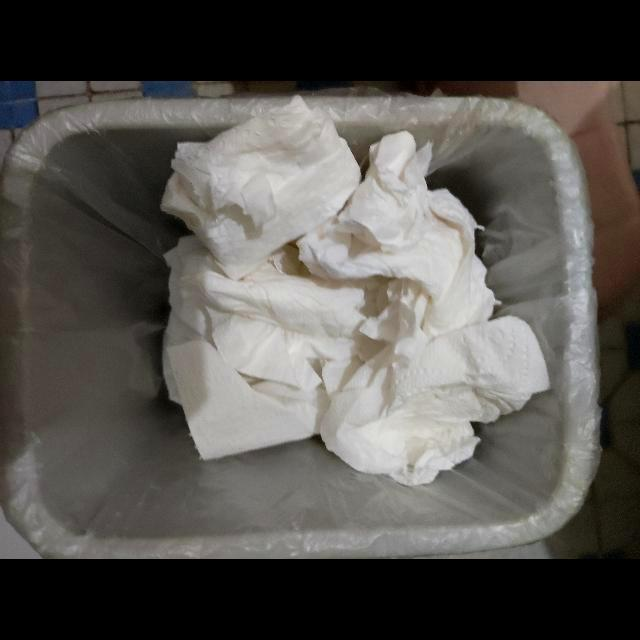paper: (319, 283, 551, 487), (295, 132, 487, 331), (160, 98, 364, 281), (166, 237, 382, 395), (161, 336, 323, 462)
